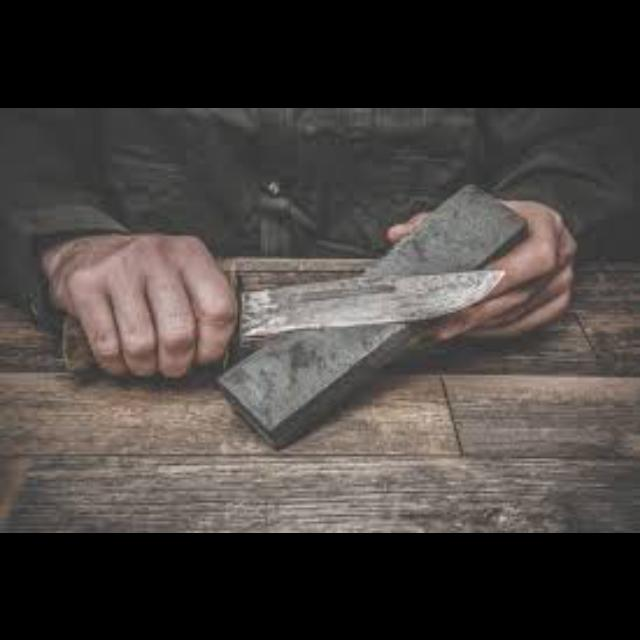Knife: (214, 182, 528, 448)
Person: (6, 110, 640, 416)
Weapon Holding: (44, 239, 240, 379)
